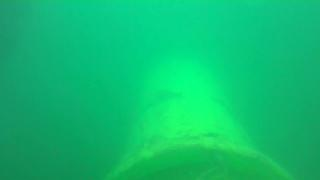pipe: (105, 47, 293, 180)
